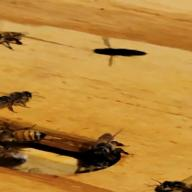Bee: (0, 125, 56, 145)
